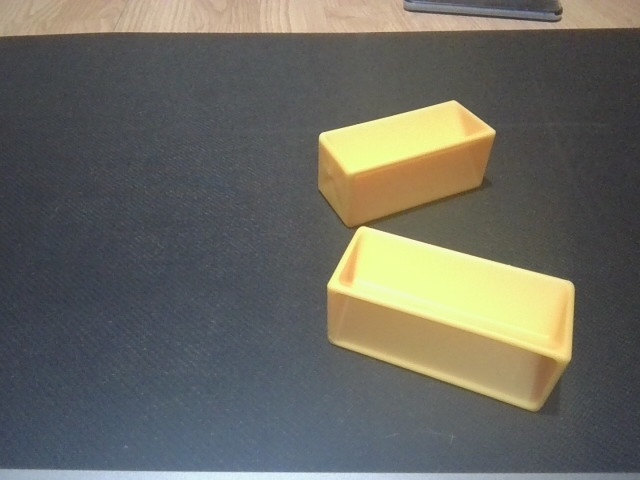YellowSample: (322, 223, 577, 415), (314, 97, 501, 227)
